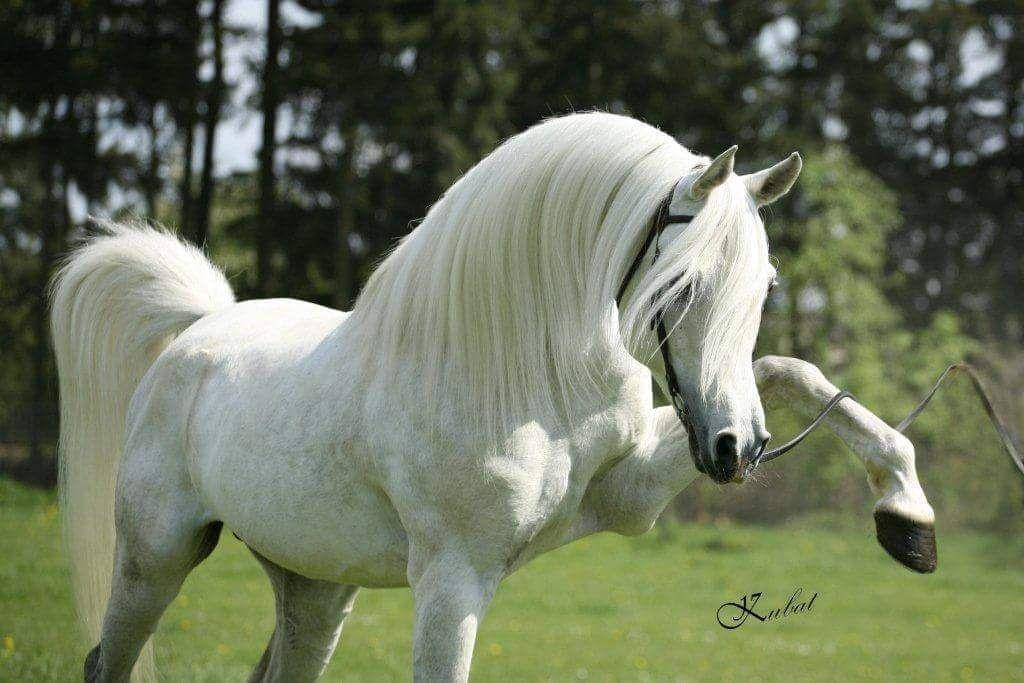horse: (45, 107, 942, 681)
